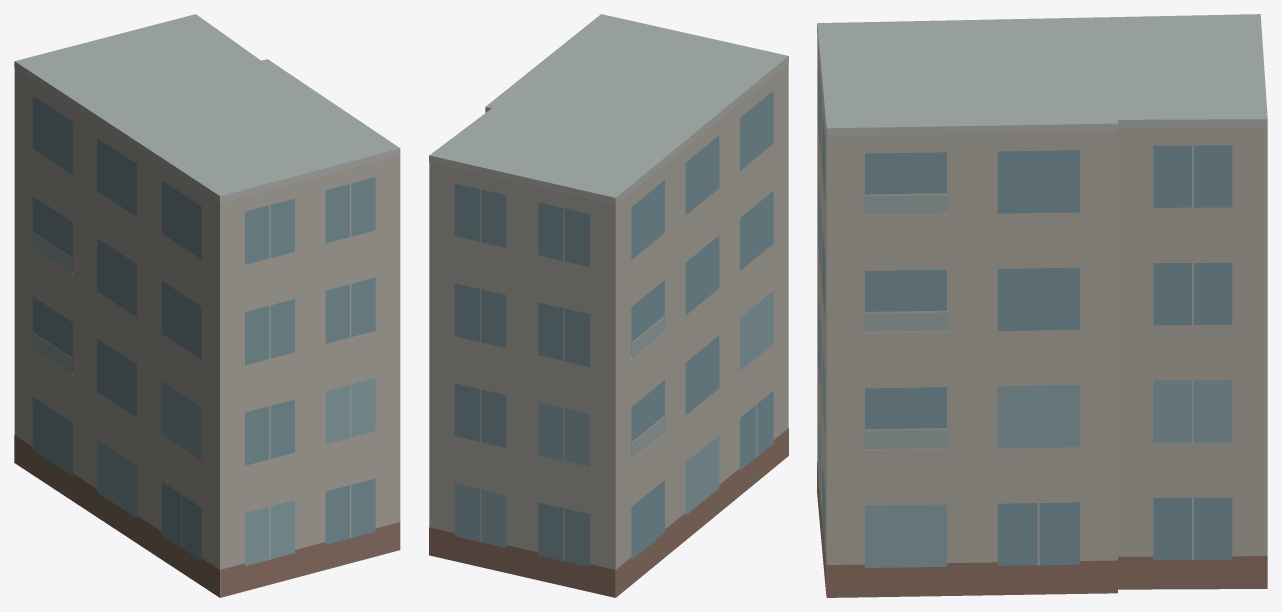
File: survey-upis-32460321.glb
The picture shows the model from 3 angles, left to right: view 1: azimuth 30°, elevation 25°; view 2: azimuth 150°, elevation 25°; view 3: azimuth 270°, elevation 25°; orthographic projection. The views are drawn at different scales.
Parts seen in each view (by area): view 1: survey-upis-32460321.tmp; view 2: survey-upis-32460321.tmp; view 3: survey-upis-32460321.tmp.
Boxes of the visible parts, <box> form: survey-upis-32460321.tmp: <box>14,14,400,597</box>; survey-upis-32460321.tmp: <box>429,14,788,597</box>; survey-upis-32460321.tmp: <box>817,14,1267,597</box>.
Size of the model in its own units: 7.31 by 14 by 12.18.
